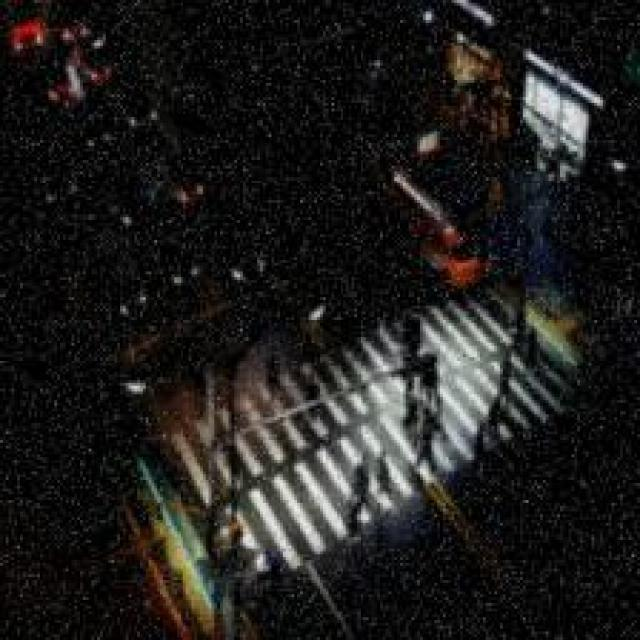crosswalk: (172, 296, 585, 581)
